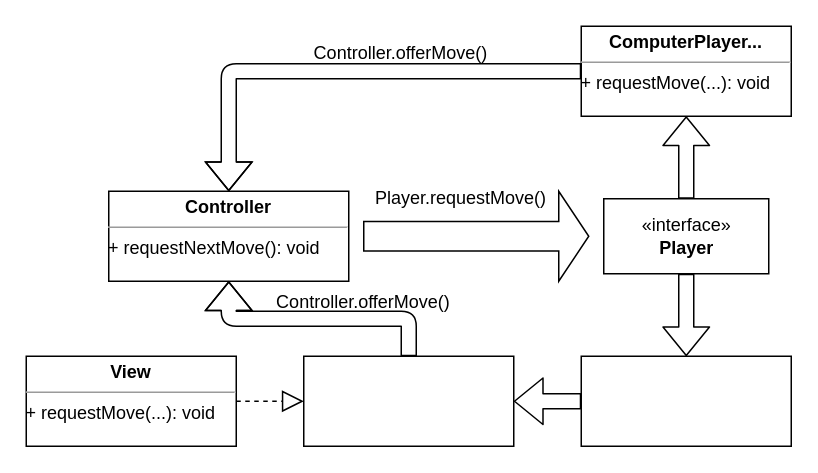
Some shapes in this 818 by 473 pixel diagram are drawn without their labels. Each missing label, with the centre of its shape:
HumanPlayer + requestMove(...): void: point 685,400
HumanPlayerInput + requestMove(...): void: point 408,400
